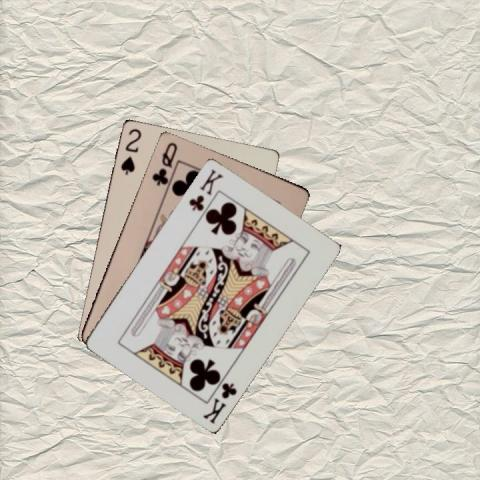2s: (117, 125, 143, 176)
Kc: (185, 165, 225, 212), (200, 379, 239, 425)
Qc: (148, 138, 178, 186)
